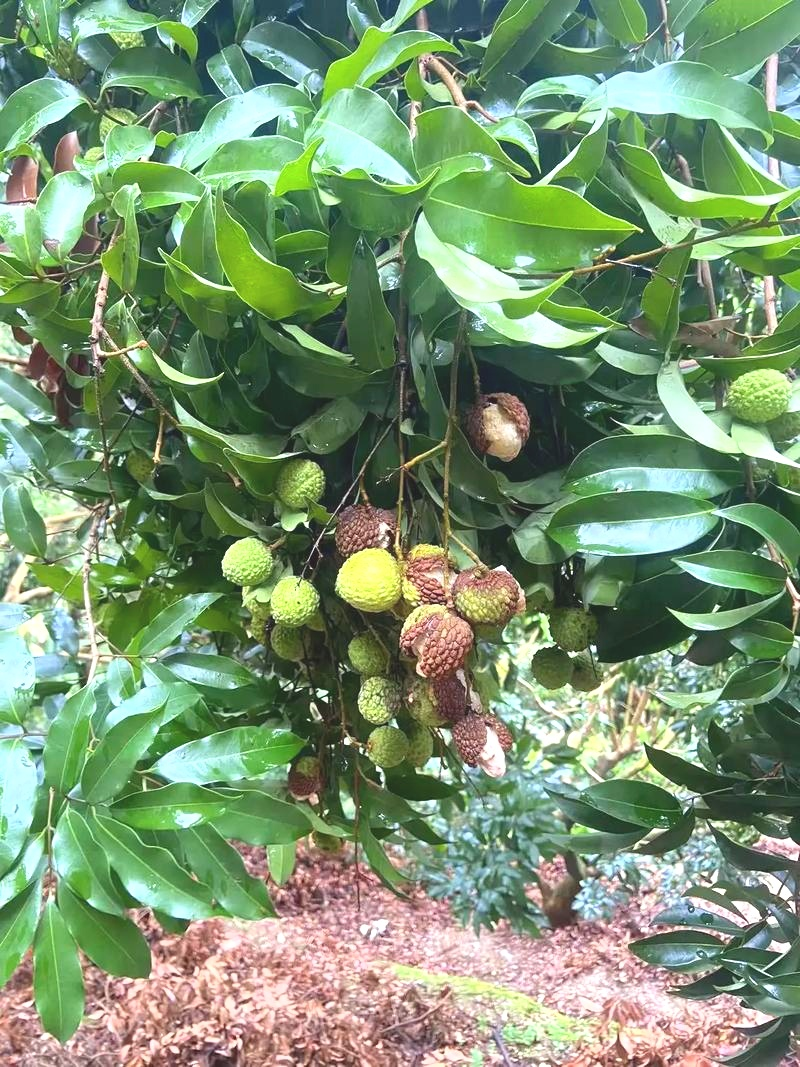Anthracnose: (31, 104, 165, 491), (424, 717, 586, 806), (381, 606, 506, 702), (325, 476, 416, 561), (459, 388, 536, 475), (437, 565, 529, 628)
